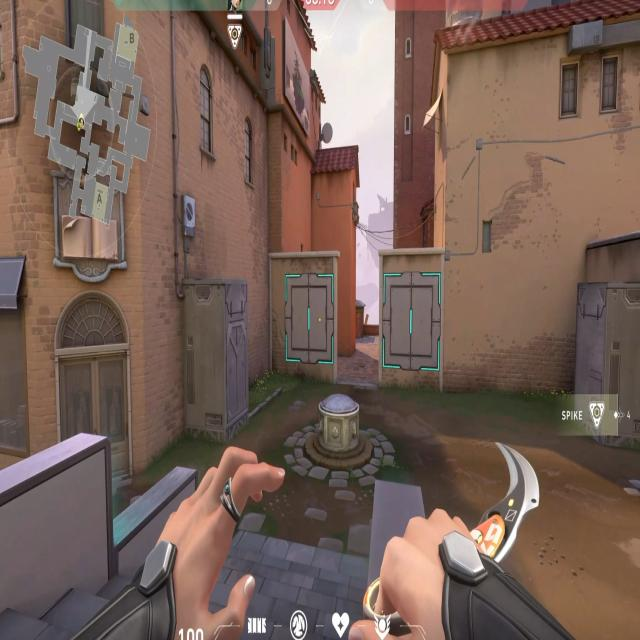Mid_Wall: (272, 255, 340, 387), (379, 256, 446, 386)
